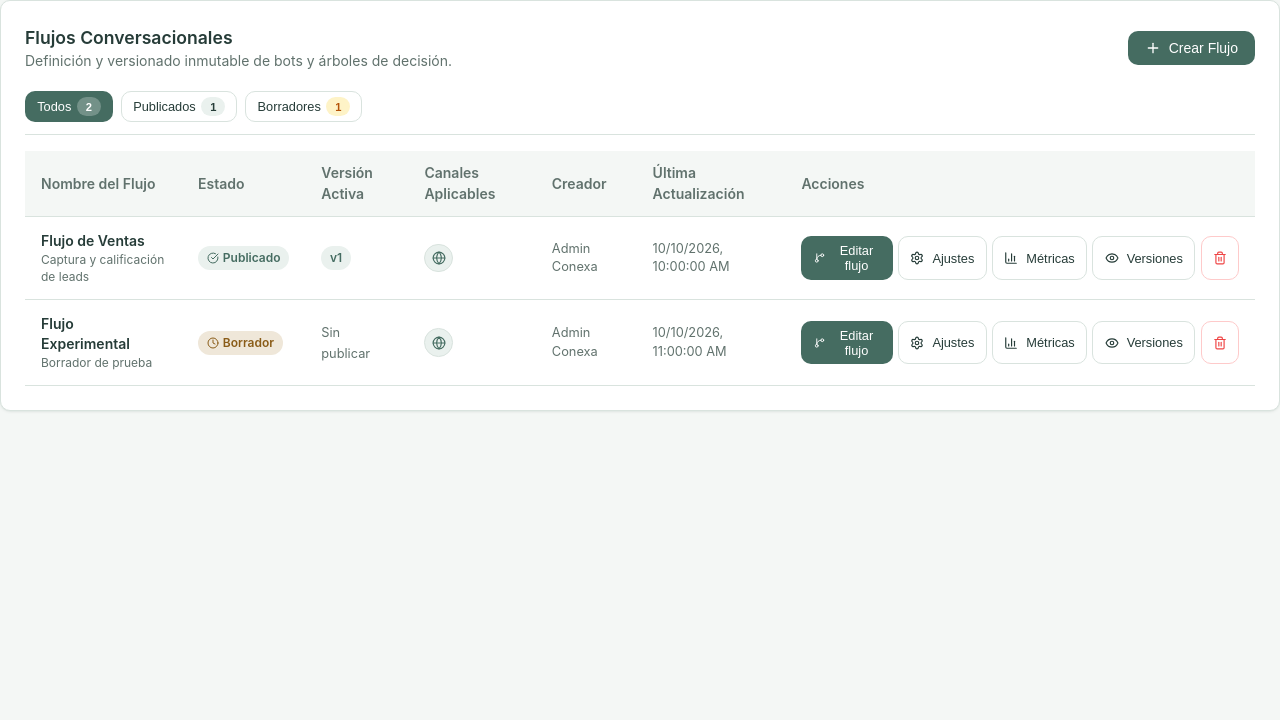
Scenario: FlowsView Safe Deletion › blocks deletion when flow is configured as entry flow in channels
Expected: the text "Flujo de Ventas" is shown, 41,232 -> 145,248
Step 1. Click the button named "Eliminar flujo Flujo de Ventas" → click(1220, 258), box 1201,236 -> 1239,280
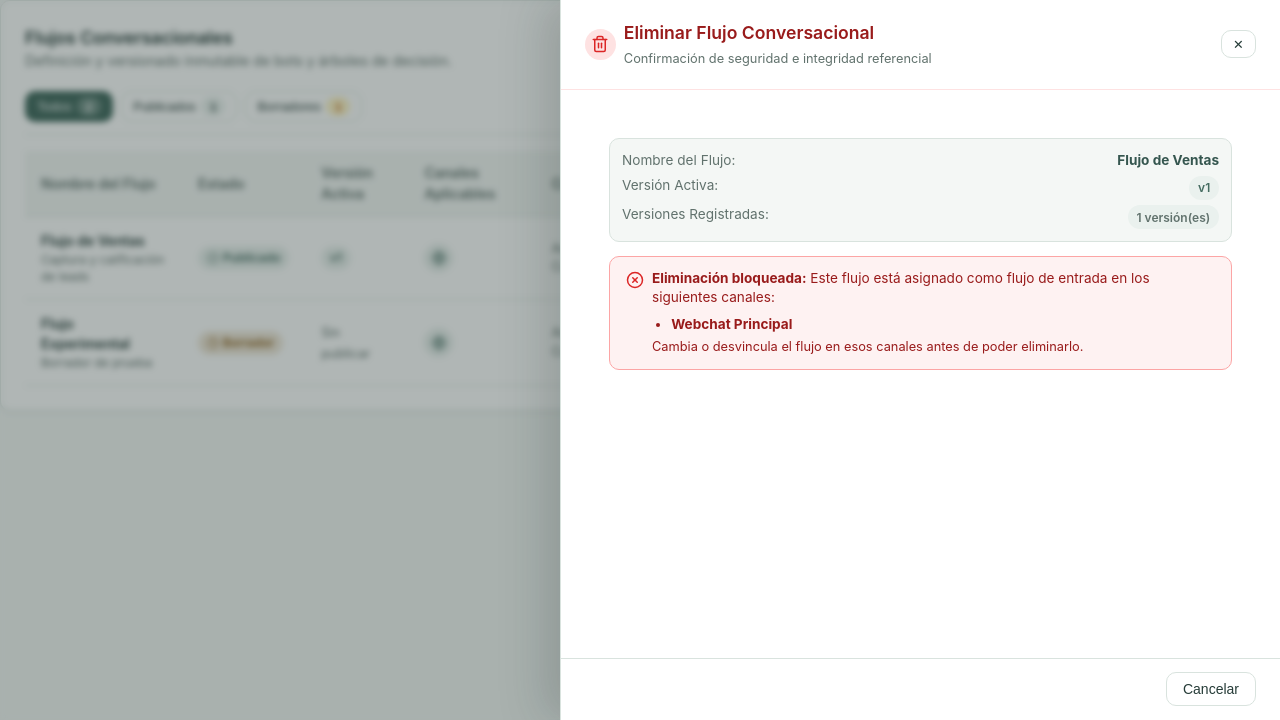
Result: the heading "Eliminar Flujo Conversacional" is shown at 624,22 -> 874,43
Result: the text "Eliminación bloqueada:" is shown at 652,270 -> 806,286
Result: the text "Webchat Principal" is shown at 671,316 -> 792,332
